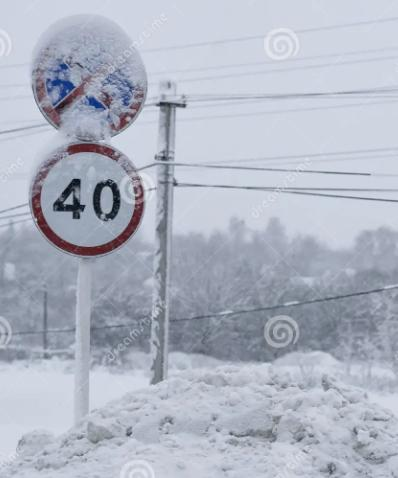obstructed_road_sign: (30, 14, 147, 141)
road_sign: (29, 142, 144, 258)
